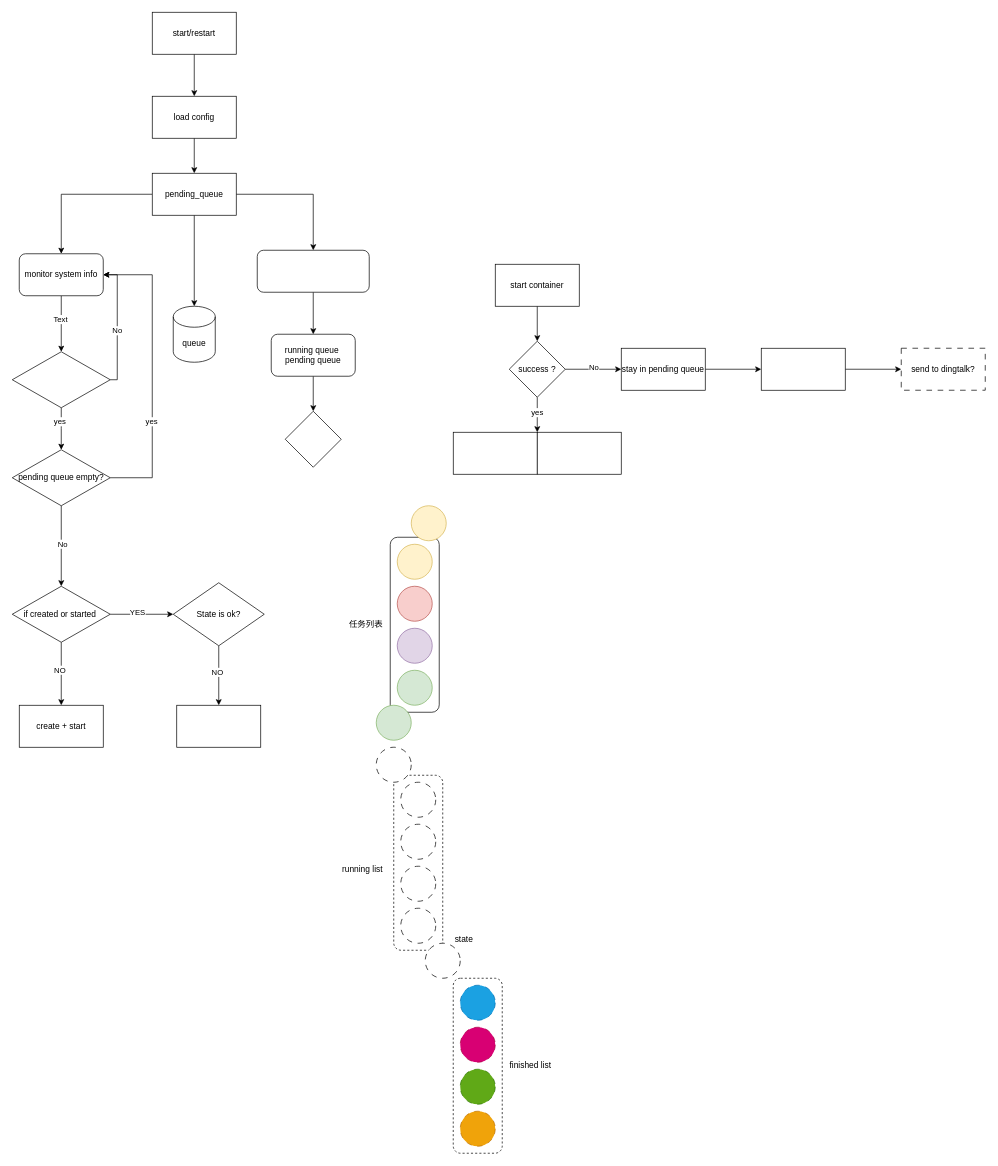
Some shapes in this 998 by 1166 pixel diagram are drawn without their labels. The shapes that lost their labels are listed below. From the top down, each one's centre as x and y in pixels, then its label:
At (x=313, y=271): "monitor docker container".
At (x=61, y=379): "resource enough?".
At (x=803, y=369): "print logs".
At (x=313, y=439): "empty?".
At (x=495, y=453): "running_queue".
At (x=579, y=453): "container queue".
At (x=218, y=726): "start + print log".
